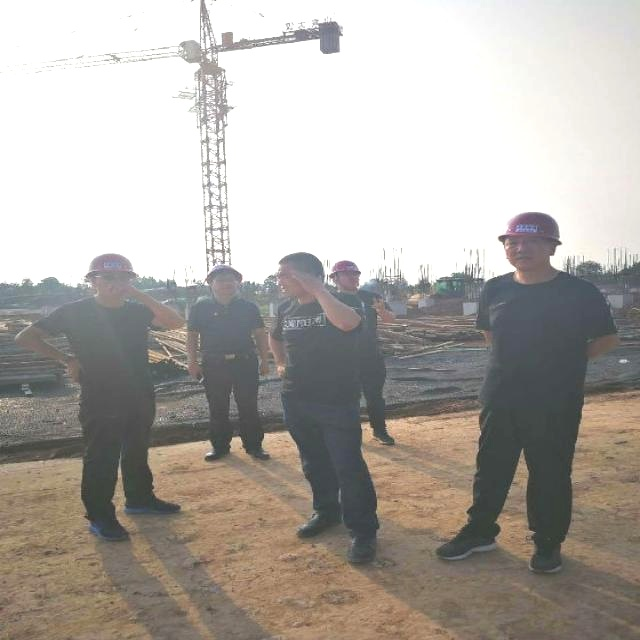Con_Casco: (498, 211, 566, 272), (82, 252, 138, 300)
Sin_Casco_Mascarrilla: (276, 250, 328, 299)
